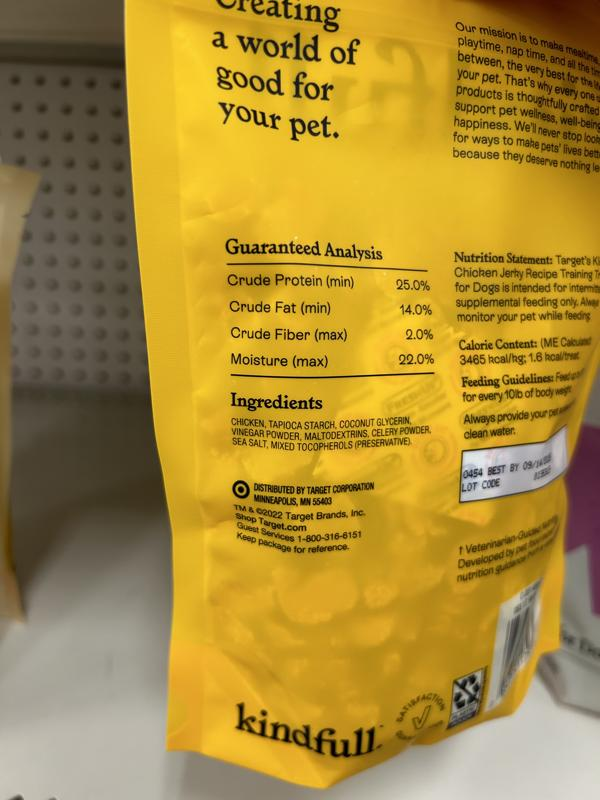ingredients: (227, 388, 435, 455)
